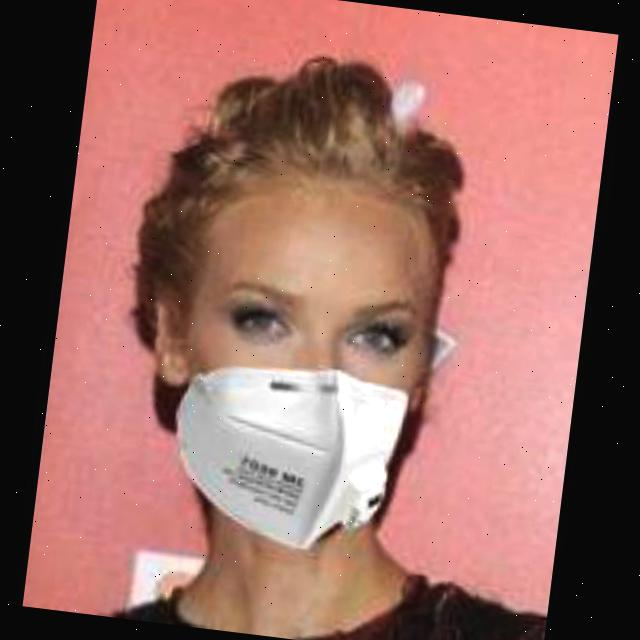suspicion: (132, 81, 482, 552)
